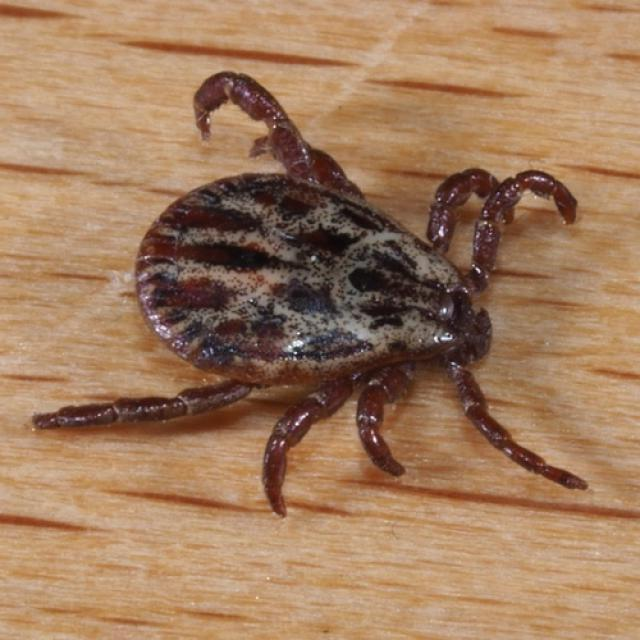Dermacentor Reticulatus-M: (33, 72, 585, 516)
